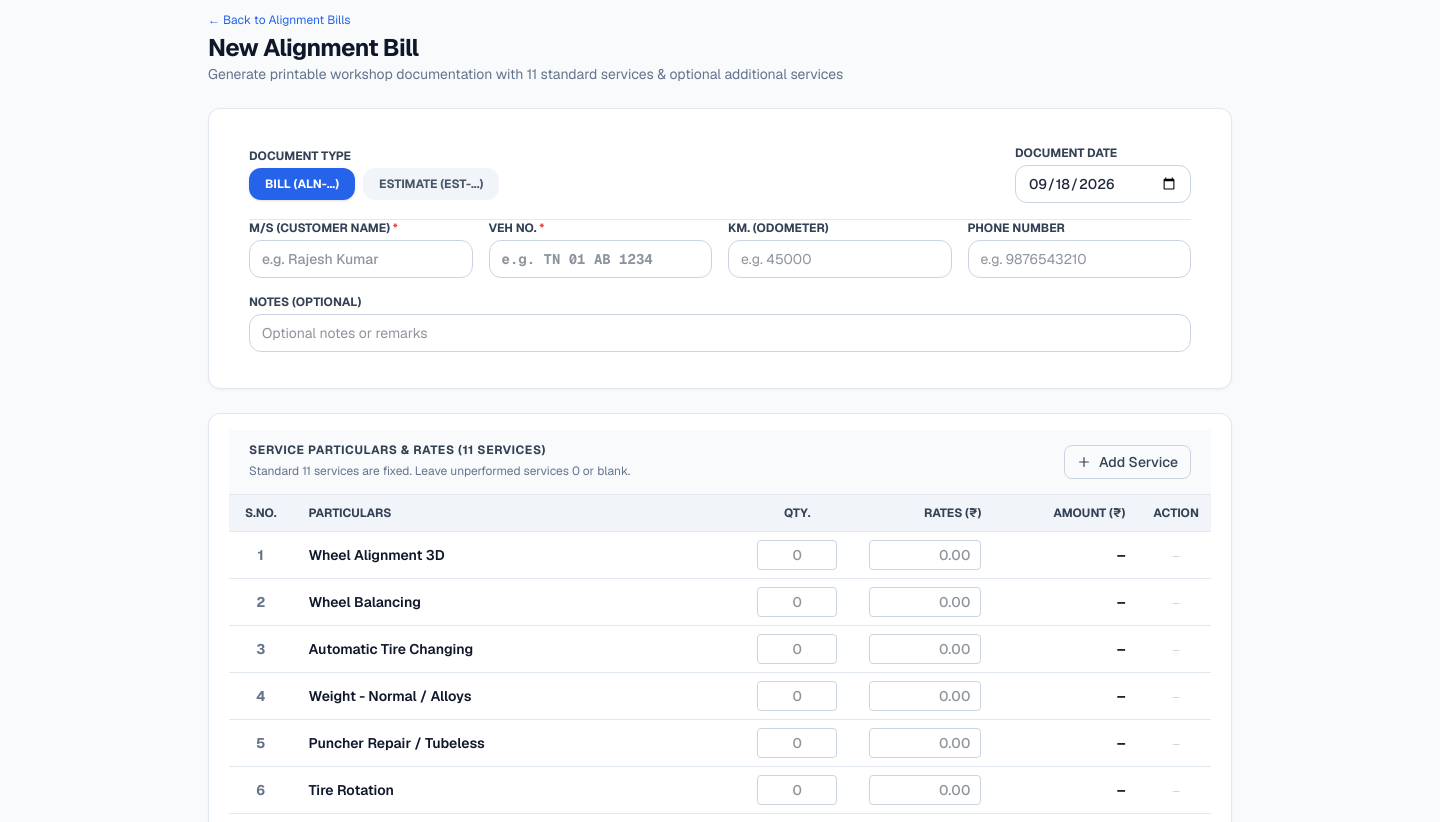
it: NewAlignmentBillPage UI Component UX Tests › sanitizes numeric fields (Phone, KM, Qty) to digits only
Phone Number input
Type "abc987-xyz-654! 3210" into the field with placeholder "e.g. 9876543210".
click(1079, 259); type("abc987-xyz-654! 3210")  # box [968,240,1191,278]
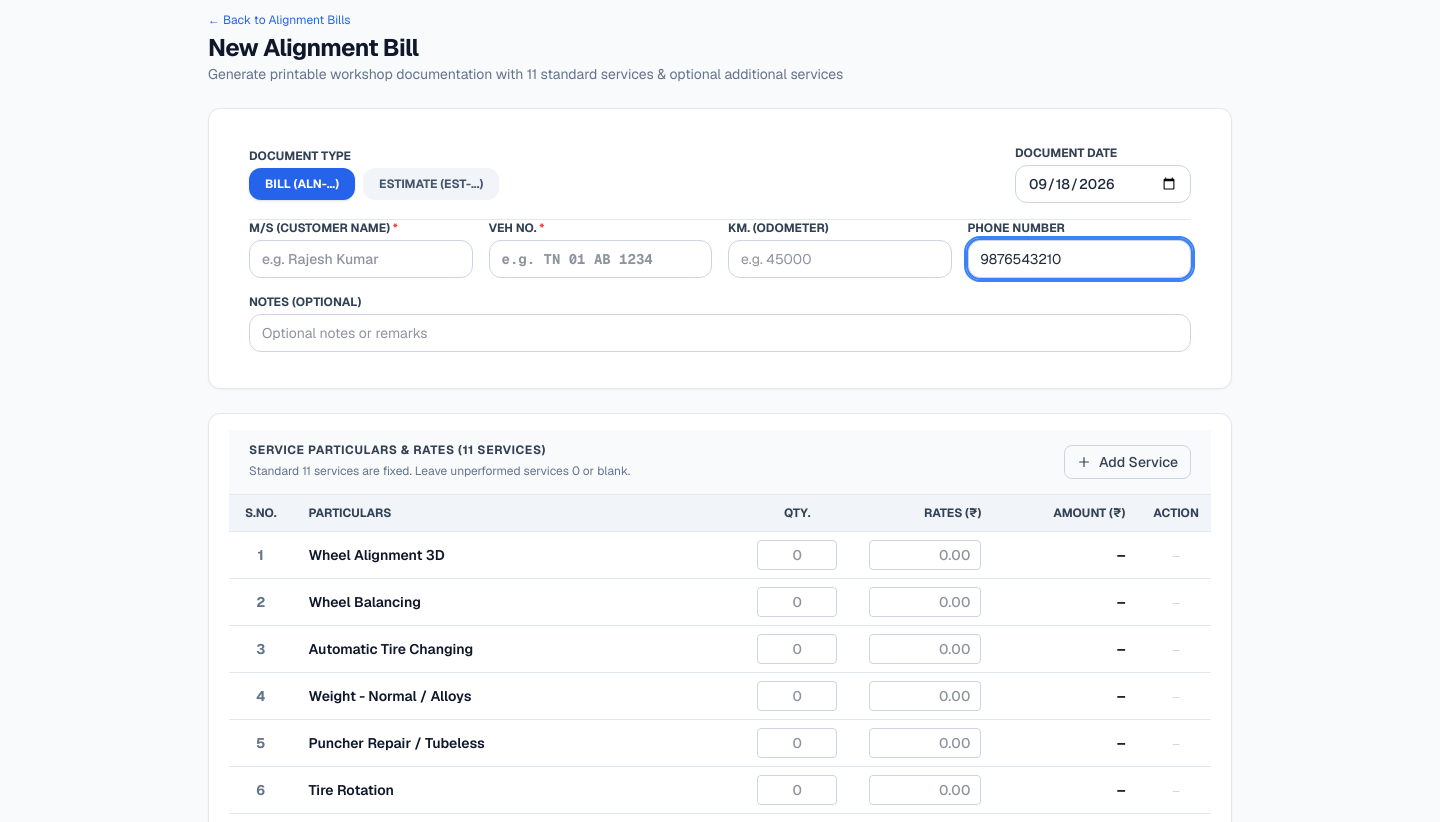
Now the field with placeholder "e.g. 9876543210" holds "9876543210", box [968,240,1191,278]
KM input
Type "12a3b4c5" into the field with placeholder "e.g. 45000".
click(840, 259); type("12a3b4c5")  # box [728,240,952,278]
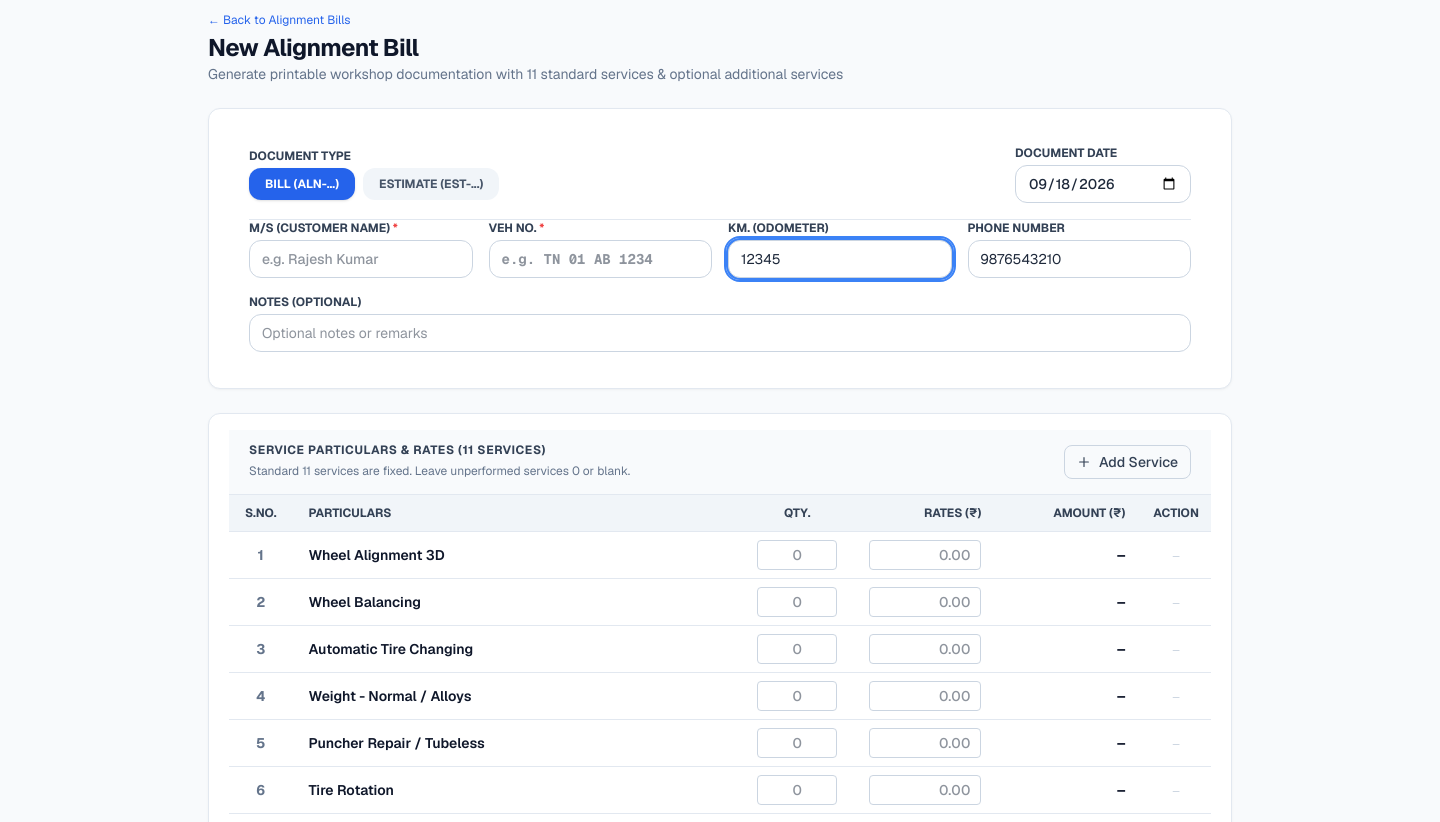
Now the field with placeholder "e.g. 45000" below "KM. (Odometer)" holds "12345", box [728,240,952,278]
Qty input for first row
Type "4x5y" into the field with placeholder "0" in the row of "Wheel Alignment 3D".
click(797, 555); type("4x5y")  # box [757,540,837,570]
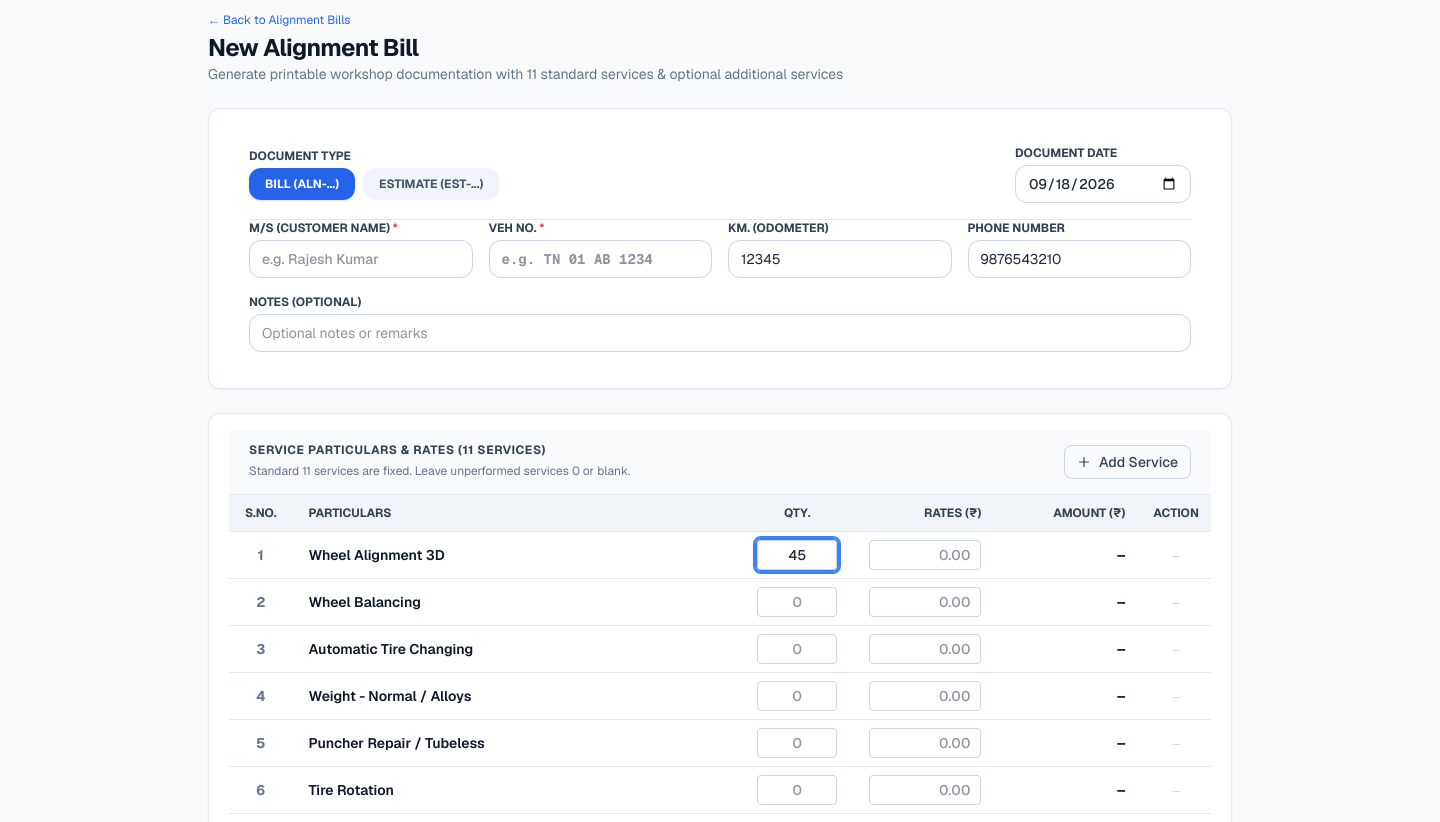
Now the field with placeholder "0" in the row of "Wheel Alignment 3D" holds "45", box [757,540,837,570]
